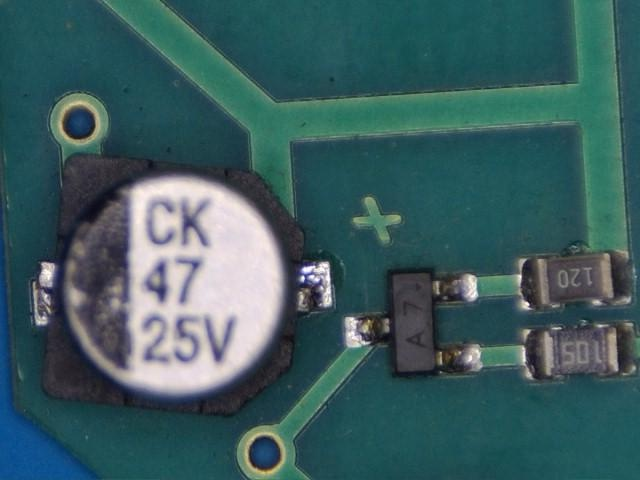pcb_defect: (32, 152, 333, 416)
